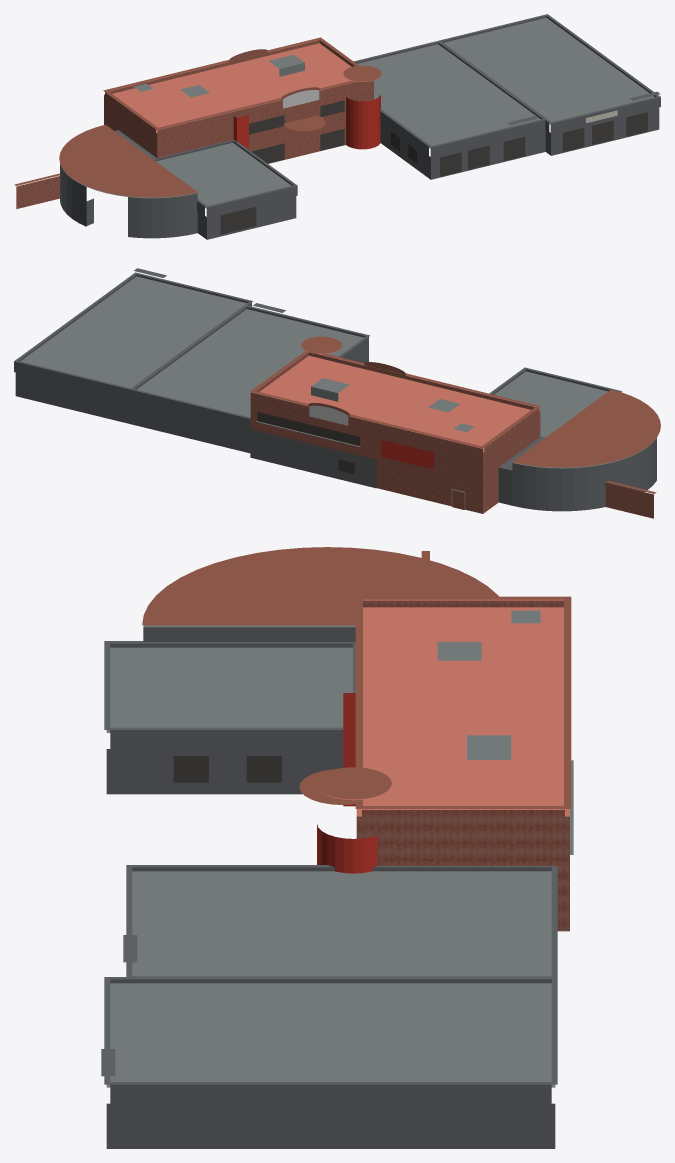
Rendered from cyxd_hangar19_lod2.gltf.
3 views of the same model, one above another, from view 1: azimuth 30°, elevation 25°; view 2: azimuth 150°, elevation 25°; view 3: azimuth 270°, elevation 25° (orthographic). The views are drawn at different scales.
Visible parts, largest first — view 1: cyxd_hangar19; view 2: cyxd_hangar19; view 3: cyxd_hangar19.
Part boxes in pixels (x1=…): cyxd_hangar19: x1=14, y1=14, x2=660, y2=239; cyxd_hangar19: x1=14, y1=268, x2=660, y2=518; cyxd_hangar19: x1=101, y1=547, x2=573, y2=1148.
Bounding box in the file's own units: 88.75 × 10.2 × 32.09.
